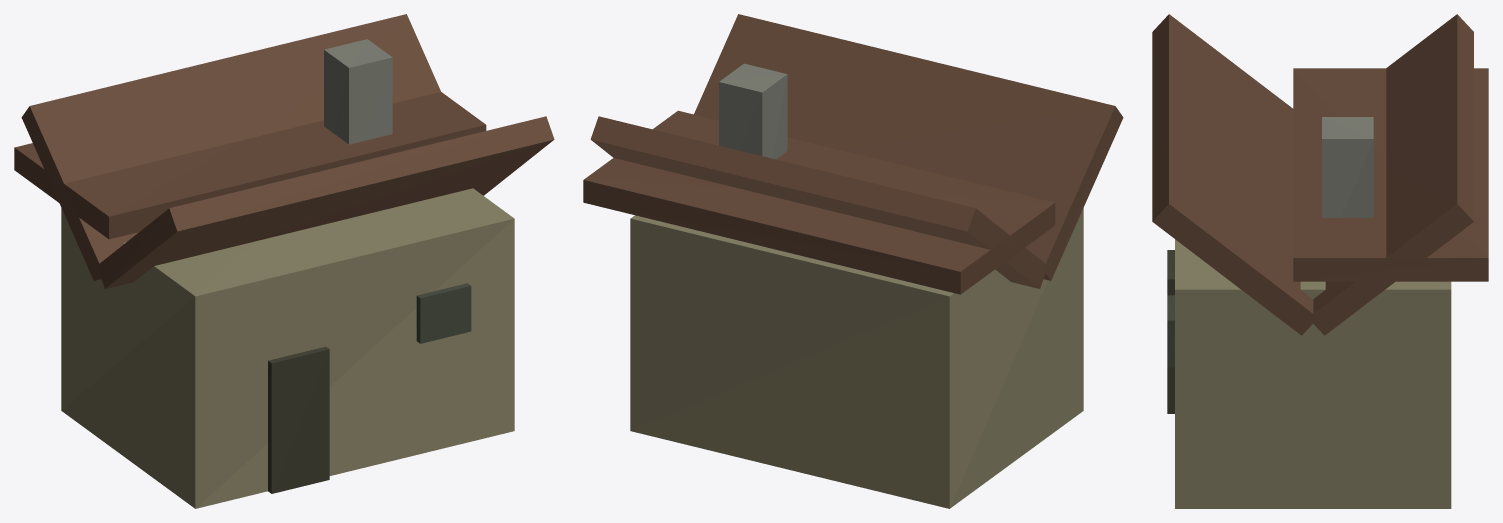
The model's file is abandoned_cottage.glb.
3 renders of one model, left to right at view 1: azimuth 30°, elevation 25°; view 2: azimuth 150°, elevation 25°; view 3: azimuth 270°, elevation 25°, orthographic. The views are drawn at different scales.
Visible parts, largest first — view 1: world-scenery/abandoned_cottage; view 2: world-scenery/abandoned_cottage; view 3: world-scenery/abandoned_cottage.
Boxes of the visible parts, x1,y1,x2,y2 form: world-scenery/abandoned_cottage: [14, 14, 554, 508]; world-scenery/abandoned_cottage: [583, 14, 1123, 508]; world-scenery/abandoned_cottage: [1152, 14, 1488, 508].
Size of the model in its own units: 2.6 by 2.2 by 1.95.
